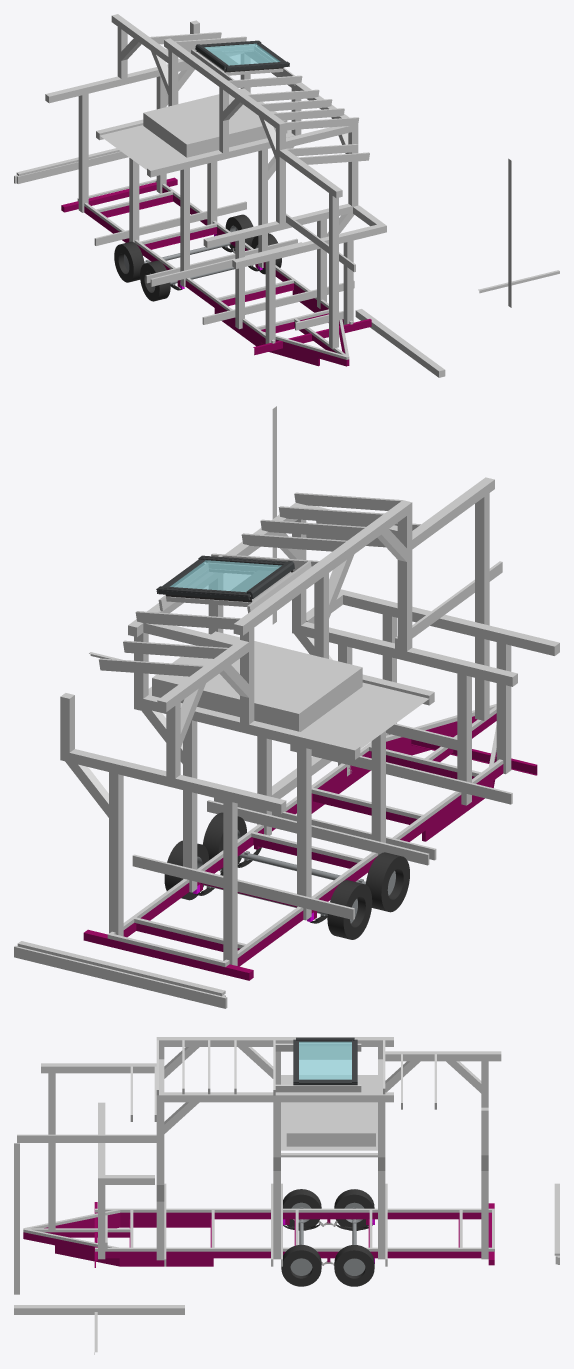
The model's file is Skylab_0.fbx.
The picture shows the model from 3 angles, top to bottom: view 1: azimuth 30°, elevation 25°; view 2: azimuth 150°, elevation 25°; view 3: azimuth 270°, elevation 25°; orthographic projection. The views are drawn at different scales.
Visible parts, largest first — view 1: Matress, Bedroom1, Group75, Group86, Group82, Group90, Group78, VMS_1000_x_1200___Upper_part1, Group101, Group102, wood_2_6_20, Group85 (+44 smaller); view 2: Matress, Bedroom1, Group102, Group75, Group90, Group82, Group86, Group97, wood_2_6_20, wood_2_6_1, VMS_1000_x_1200___Upper_part1, Group101 (+47 smaller); view 3: Matress, Trailer_Main_Beam_01_1, Group115, VMS_1000_x_1200___Upper_part1, Trailer_Main_Beam_01, Group85, Group14, Group75, Group13, tire3, Bedroom1, tire1 (+22 smaller).
Boxes of the visible parts, left/top/right/bottom form: Matress: left=143, top=88, right=287, bottom=157; Bedroom1: left=100, top=125, right=291, bottom=169; Group75: left=164, top=38, right=285, bottom=130; Group86: left=329, top=193, right=338, bottom=348; Group82: left=232, top=223, right=386, bottom=268; Group90: left=203, top=203, right=358, bottom=247; Group78: left=147, top=133, right=300, bottom=177; VMS_1000_x_1200___Upper_part1: left=198, top=43, right=285, bottom=71; Group101: left=78, top=94, right=88, bottom=212; Group102: left=45, top=64, right=192, bottom=103; wood_2_6_20: left=94, top=201, right=246, bottom=245; Group85: left=355, top=309, right=445, bottom=377; Matress: left=152, top=631, right=362, bottom=731; Bedroom1: left=148, top=682, right=428, bottom=748; Group102: left=60, top=749, right=286, bottom=813; Group75: left=233, top=500, right=412, bottom=635; Group90: left=292, top=622, right=517, bottom=686; Group82: left=339, top=589, right=559, bottom=655; Group86: left=475, top=493, right=489, bottom=720; Group97: left=134, top=695, right=360, bottom=759; wood_2_6_20: left=132, top=854, right=354, bottom=919; wood_2_6_1: left=14, top=945, right=227, bottom=1008; VMS_1000_x_1200___Upper_part1: left=162, top=559, right=290, bottom=601; Group101: left=223, top=800, right=237, bottom=965; Matress: left=286, top=1083, right=375, bottom=1146; Trailer_Main_Beam_01_1: left=120, top=1212, right=481, bottom=1219; Group115: left=156, top=1092, right=393, bottom=1102; VMS_1000_x_1200___Upper_part1: left=299, top=1040, right=351, bottom=1085; Trailer_Main_Beam_01: left=97, top=1251, right=481, bottom=1258; Group85: left=14, top=1305, right=184, bottom=1314; Group14: left=95, top=1208, right=491, bottom=1212; Group75: left=156, top=1037, right=393, bottom=1046; Group13: left=95, top=1247, right=494, bottom=1251; tire3: left=334, top=1245, right=374, bottom=1286; Bedroom1: left=281, top=1075, right=377, bottom=1150; tire1: left=281, top=1244, right=321, bottom=1286.
Bounding box in the file's own units: 256 × 175 × 367.
